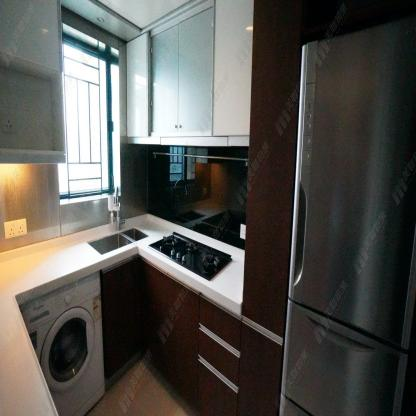Cupboard: (101, 255, 284, 416), (126, 1, 256, 135)
Exhaust Hood: (160, 135, 229, 147)
Fridge: (279, 16, 415, 416)
Sink: (87, 226, 147, 255)
Stove: (149, 233, 231, 281)
